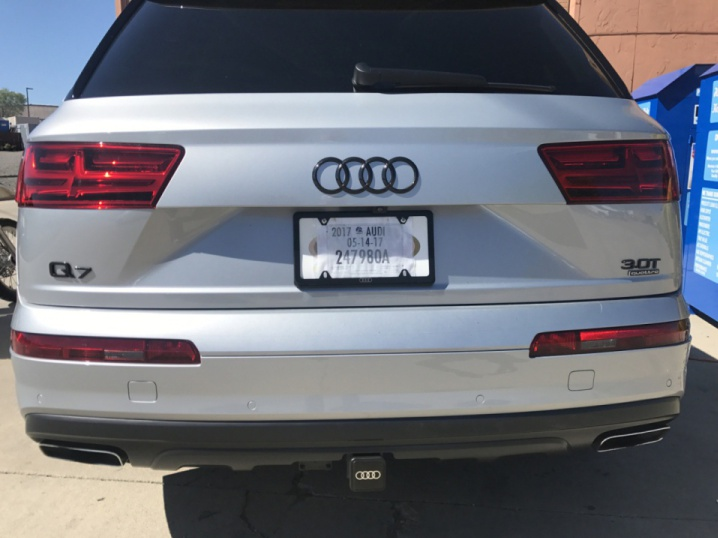audi: (305, 147, 425, 204)
